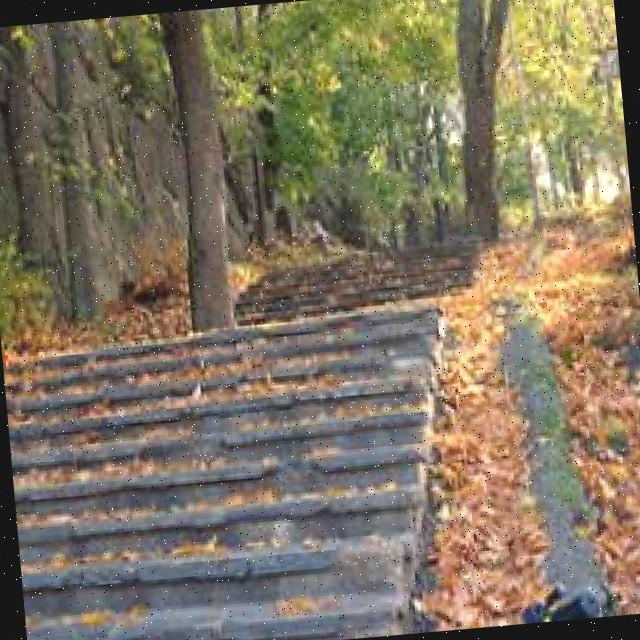stairs: (0, 296, 472, 640)
